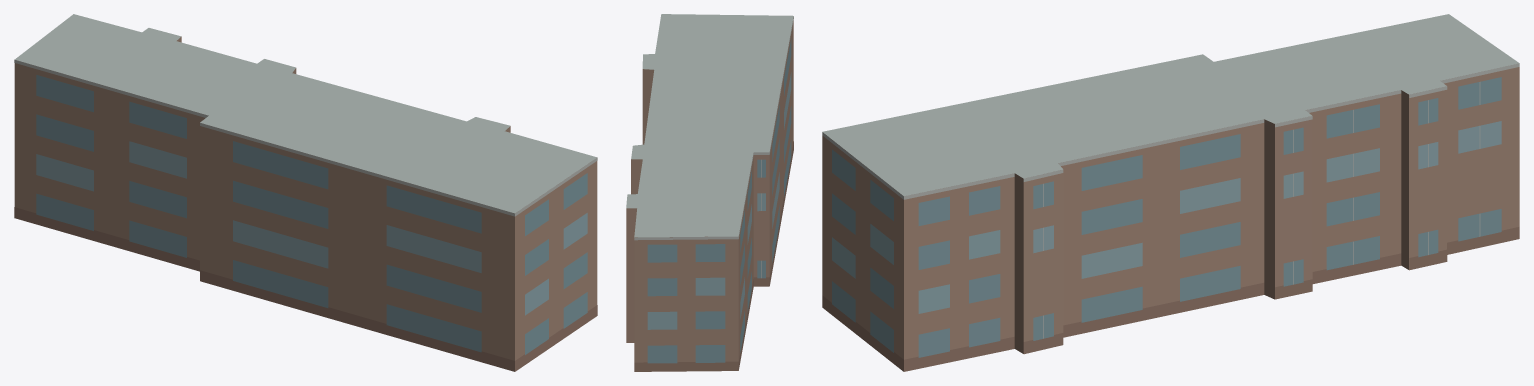
File: survey-upis-32835756.glb
The picture shows the model from 3 angles, left to right: view 1: azimuth 30°, elevation 25°; view 2: azimuth 150°, elevation 25°; view 3: azimuth 270°, elevation 25°; orthographic projection. The views are drawn at different scales.
Visible parts, largest first — view 1: survey-upis-32835756.tmp; view 2: survey-upis-32835756.tmp; view 3: survey-upis-32835756.tmp.
Boxes of the visible parts, x1,y1,x2,y2 form: survey-upis-32835756.tmp: [14, 14, 597, 371]; survey-upis-32835756.tmp: [626, 14, 793, 371]; survey-upis-32835756.tmp: [822, 14, 1519, 371].
Bounding box in the file's own units: 26.94 × 12.1 × 43.56.
